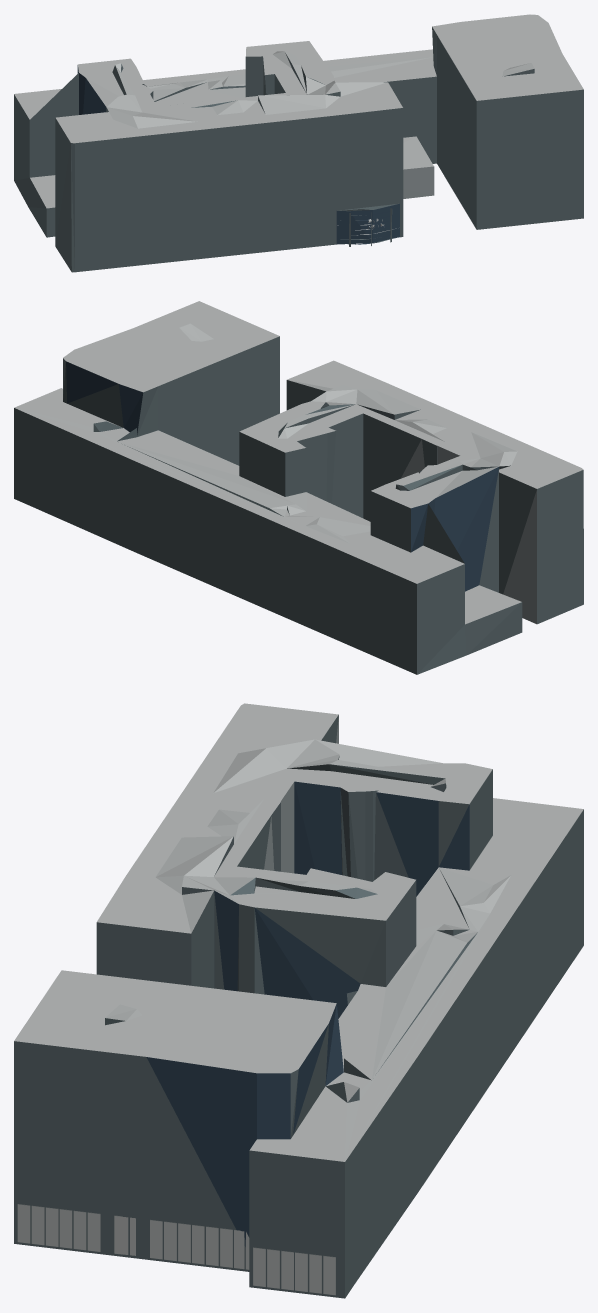
File: vriesseveem-9.lod2.glb
3 views of the same model, one above another, from view 1: azimuth 30°, elevation 25°; view 2: azimuth 150°, elevation 25°; view 3: azimuth 270°, elevation 25° (orthographic). The views are drawn at different scales.
Parts seen in each view (by area): view 1: lod2; view 2: lod2; view 3: lod2.
Part boxes in pixels (bbox=[...]): lod2: bbox=[14, 14, 583, 272]; lod2: bbox=[14, 301, 583, 674]; lod2: bbox=[14, 703, 583, 1298].
Size of the model in its own units: 138 by 34.91 by 85.
